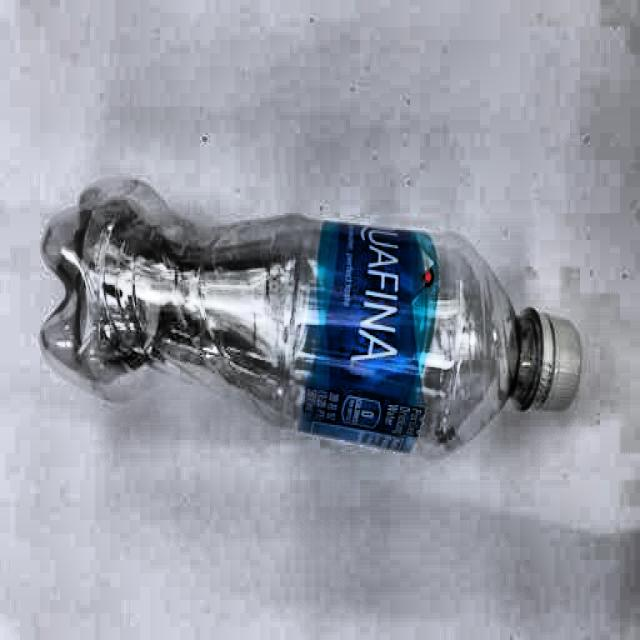plastic: (42, 193, 586, 456)
